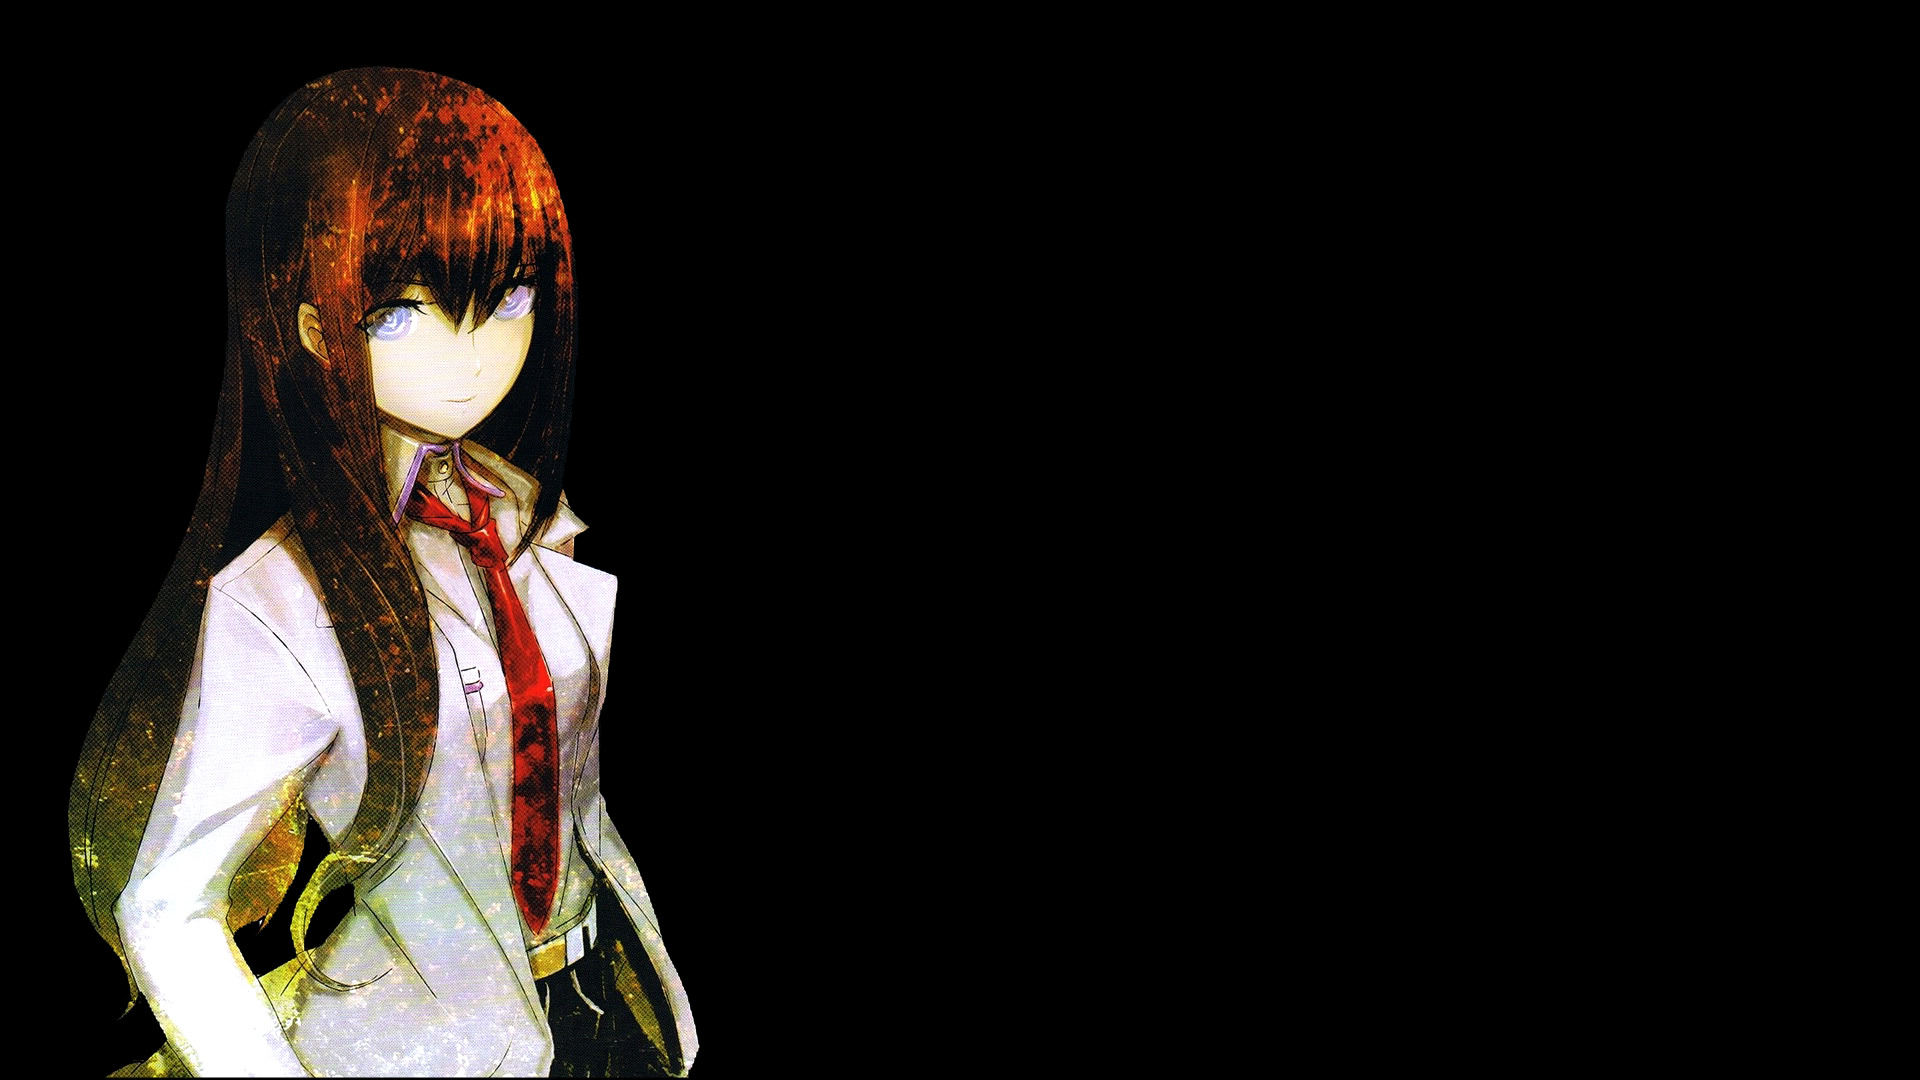makise: (37, 78, 720, 1080)
